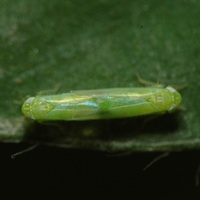insect: (22, 86, 181, 121)
